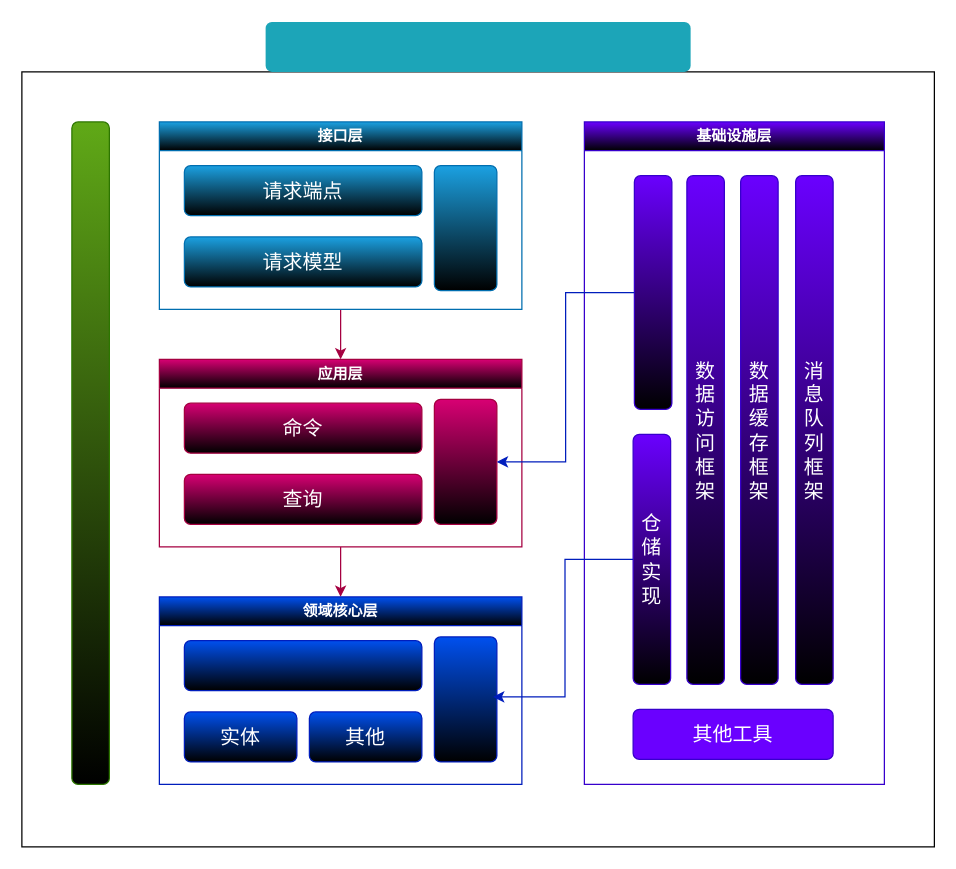
Some shapes in this 956 by 869 pixel diagram are drawn without their labels. The centre of each missing label's shape, as x and y in pixels:
"仓储服务" belongs at pixel 465 699.
"共享类库" belongs at pixel 90 452.
"基于领域驱动设计的整洁架构" belongs at pixel 477 46.
"服务装配" belongs at pixel 465 227.
"查询实体" belongs at pixel 652 291.
"查询服务" belongs at pixel 465 461.
"领域对象" belongs at pixel 302 665.
